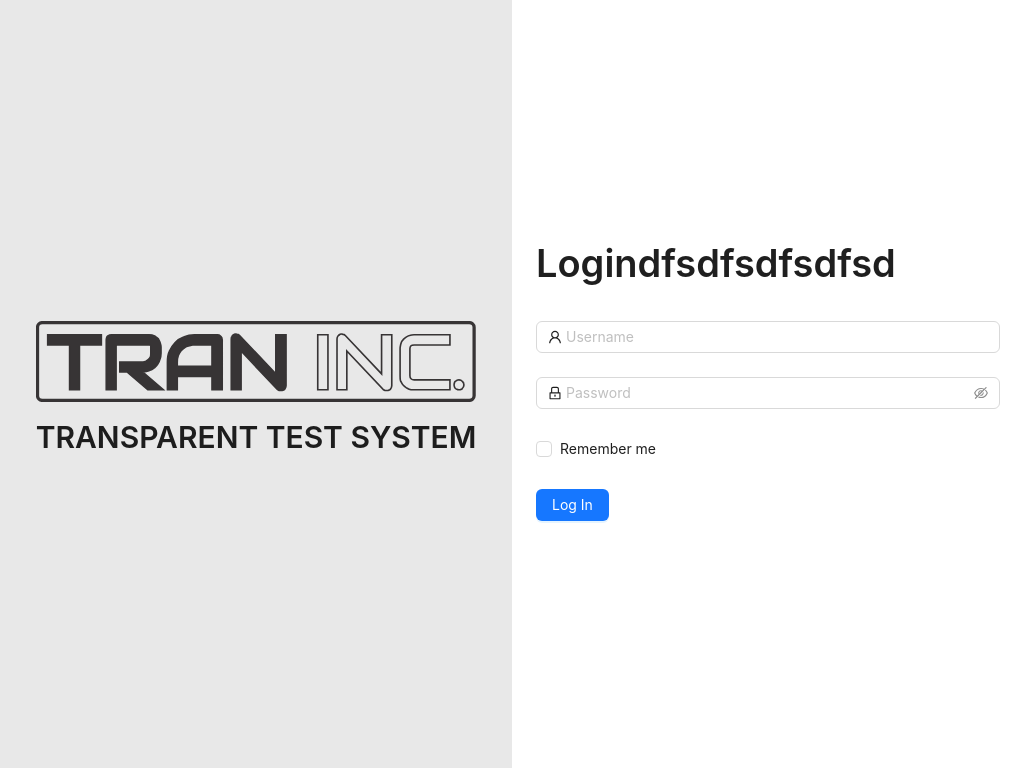
Test case: Login › should show error messages when username and password are not filled in
The width and height of the screenshot is (1024, 768).
What coordinates should you click on to do the following:
click the button "Log In"
I would click on:
 (572, 504)
Its box is [536,488,609,520].
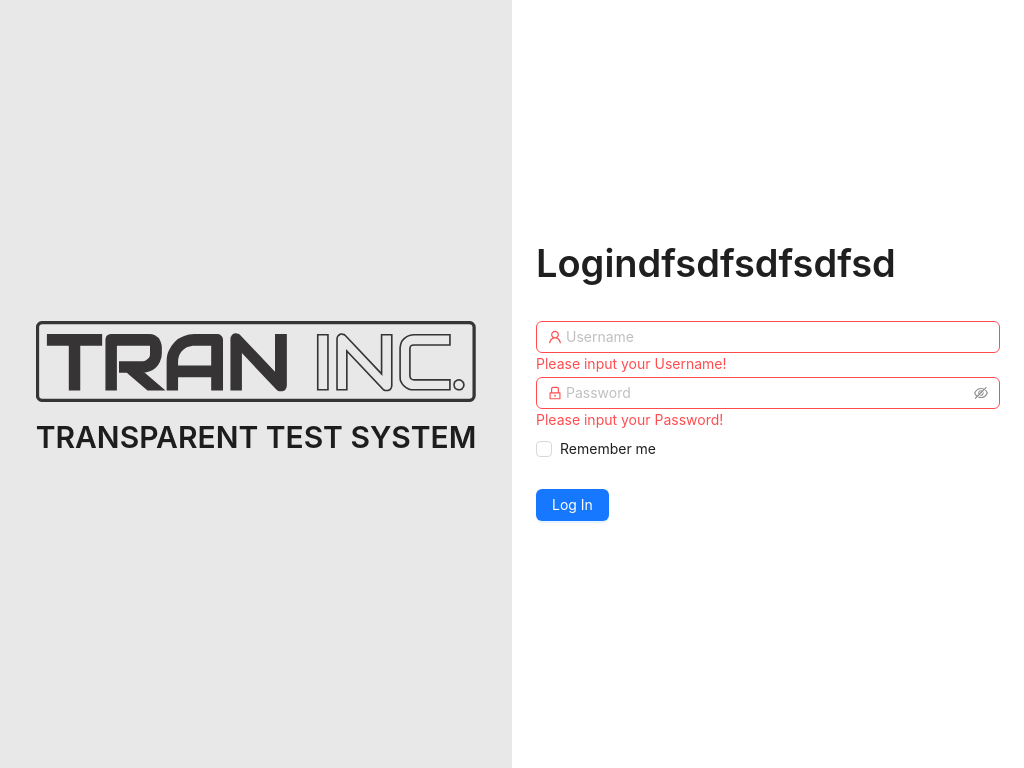
expect the text "Please input your Username!" is shown: met, box [536,354,726,372]
expect the text "Please input your Password!" is shown: met, box [536,410,723,428]
